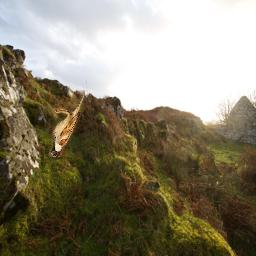Sparrow: (49, 91, 85, 158)
